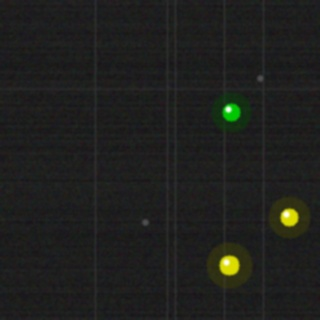green_normal: (220, 101, 242, 123)
yellow_warning: (217, 253, 241, 277), (278, 206, 300, 228)
